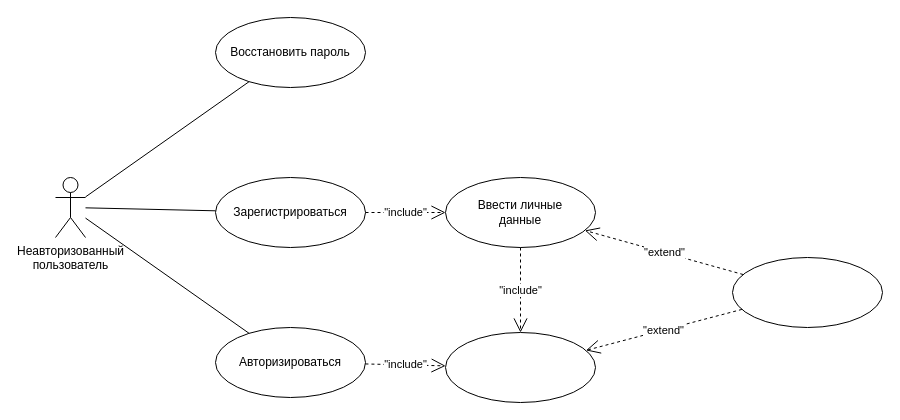
The diagram is 900 pixels wide and 420 high, and some of its shapes have lost their labels. Each missing label, with the centre of its shape:
Ввести логин и пароль: [520,367]
Получить ошибку о неверных данных: [807,292]
